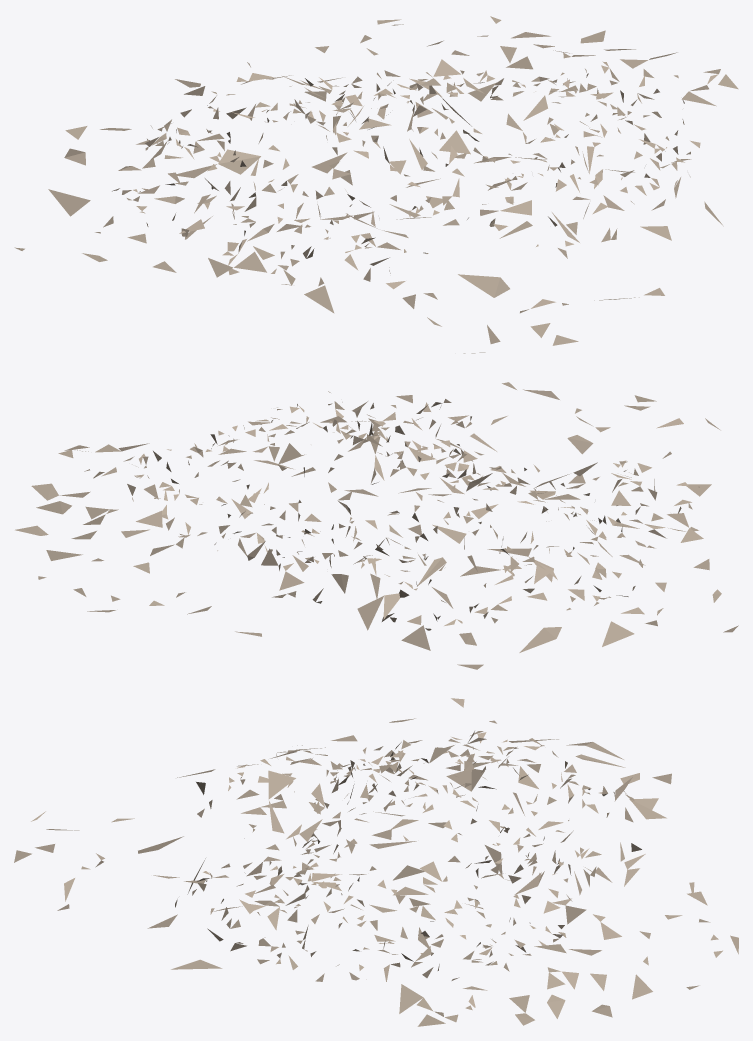
Rendered from debris-pile-a.glb.
The picture shows the model from 3 angles, top to bottom: view 1: azimuth 30°, elevation 25°; view 2: azimuth 150°, elevation 25°; view 3: azimuth 270°, elevation 25°; orthographic projection. The views are drawn at different scales.
Visible parts, largest first — view 1: debris-pile-a; view 2: debris-pile-a; view 3: debris-pile-a.
Part boxes in pixels (left/top/right/bottom): debris-pile-a: left=14, top=16, right=738, bottom=353; debris-pile-a: left=15, top=382, right=738, bottom=669; debris-pile-a: left=14, top=698, right=738, bottom=1026.
Size of the model in its own units: 1 by 0.1821 by 0.9191.
